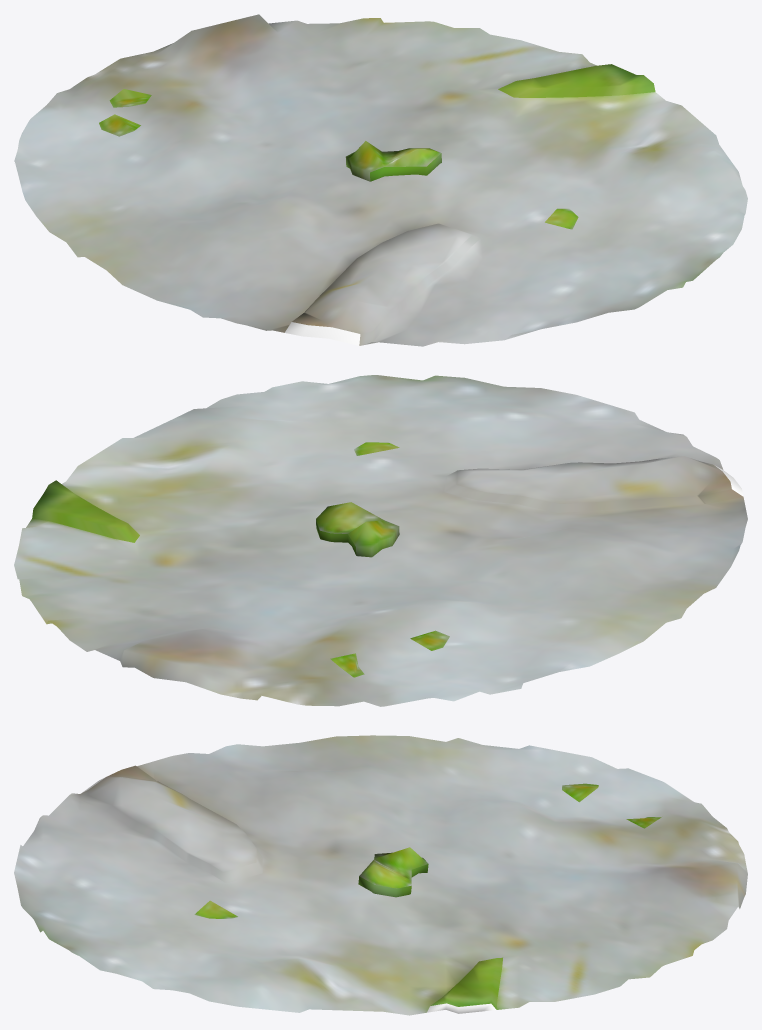
Rendered from Soup.fbx.
The picture shows the model from 3 angles, top to bottom: view 1: azimuth 30°, elevation 25°; view 2: azimuth 150°, elevation 25°; view 3: azimuth 270°, elevation 25°; orthographic projection. The views are drawn at different scales.
Visible parts, largest first — view 1: Soup; view 2: Soup; view 3: Soup.
Boxes of the visible parts, box(x1,y1,x2,y2) form: Soup: box(14, 14, 747, 346); Soup: box(14, 375, 747, 706); Soup: box(14, 735, 747, 1015).
Bounding box in the file's own units: 0.0973 × 0.00594 × 0.1091.
